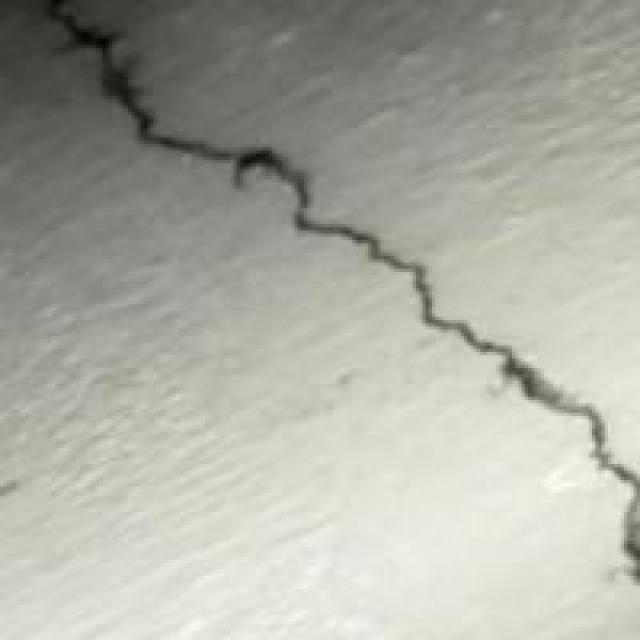Crack: (29, 3, 637, 608)
